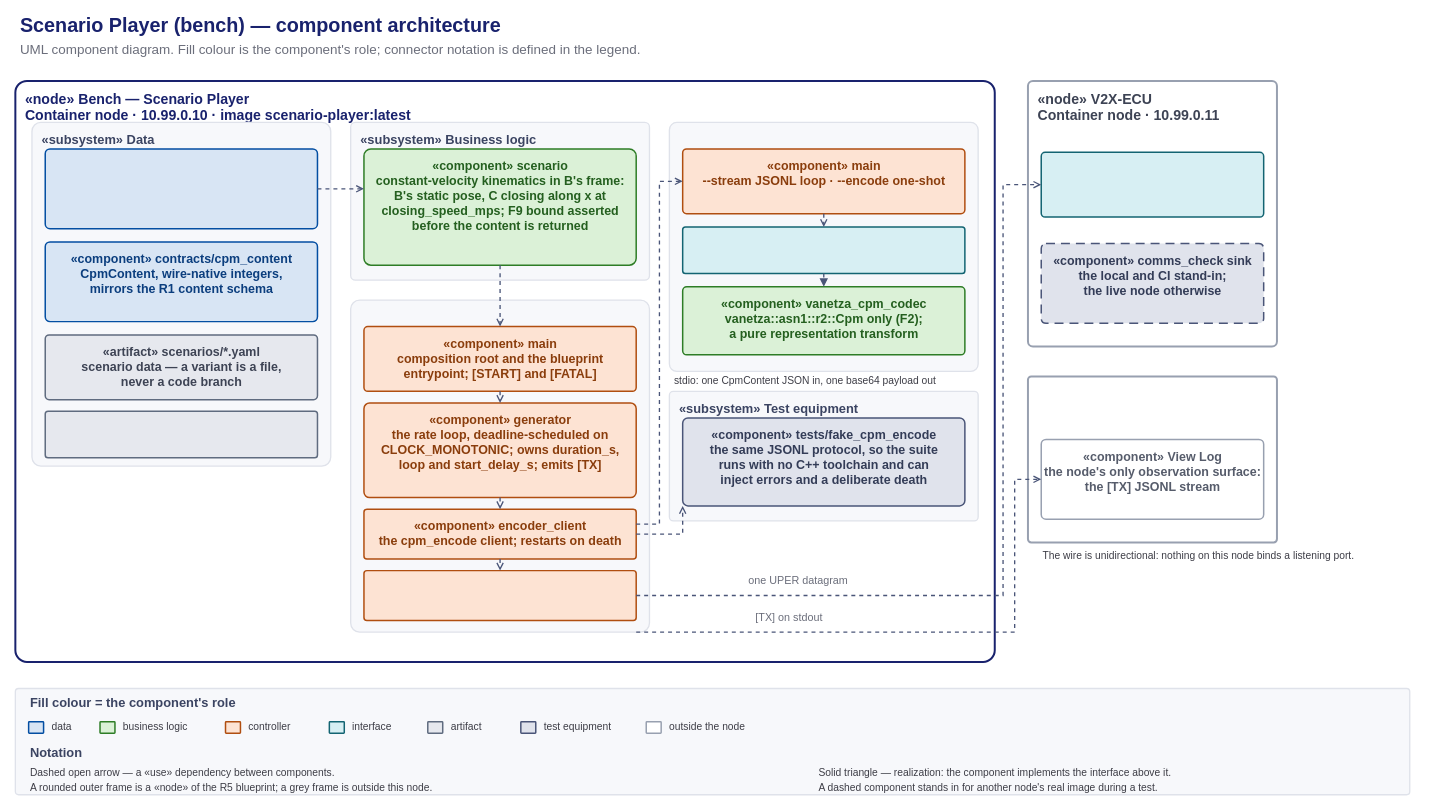
Some shapes in this 1453 by 810 pixel diagram are drawn without their labels. The box of each missing label's shape, as (x1, y1, x2, y2) in pixels:
CarSky platform observation surface: (1027, 375, 1278, 543)
«artifact» contracts/ r1-cpm-content.schema.json — byte-synced: (44, 410, 318, 458)
«component» config the only env and YAML reader; validates, then stops: (44, 148, 318, 229)
«component» sender the only socket holder; one datagram out: (363, 569, 637, 621)
«interface» ICpmCodec encode(CpmContent) → UPER octets: (682, 226, 965, 274)
«interface» V2X-ECU UPER CPM datagram → :47100 one message per datagram (F5): (1040, 151, 1264, 217)
«subsystem» cpm_encode — C++17 helper: (668, 121, 978, 372)
«subsystem» UI logic — the controller: (350, 299, 650, 632)
